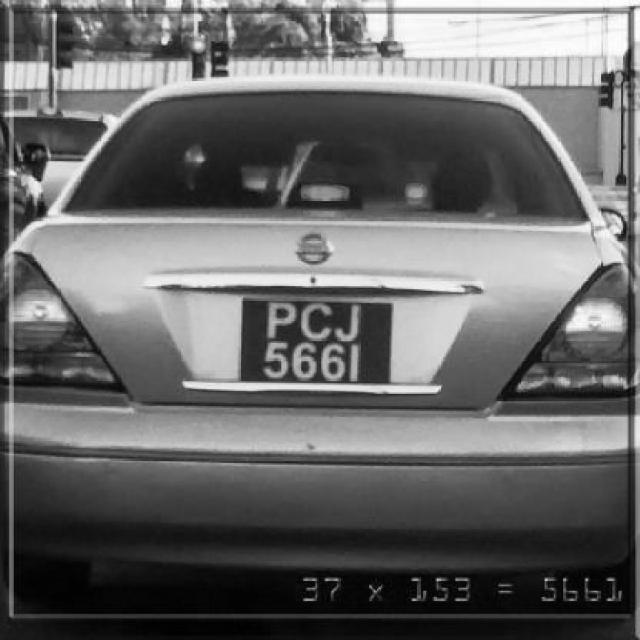car: (0, 70, 622, 596), (0, 98, 120, 194)
license-plate: (192, 294, 436, 384)
